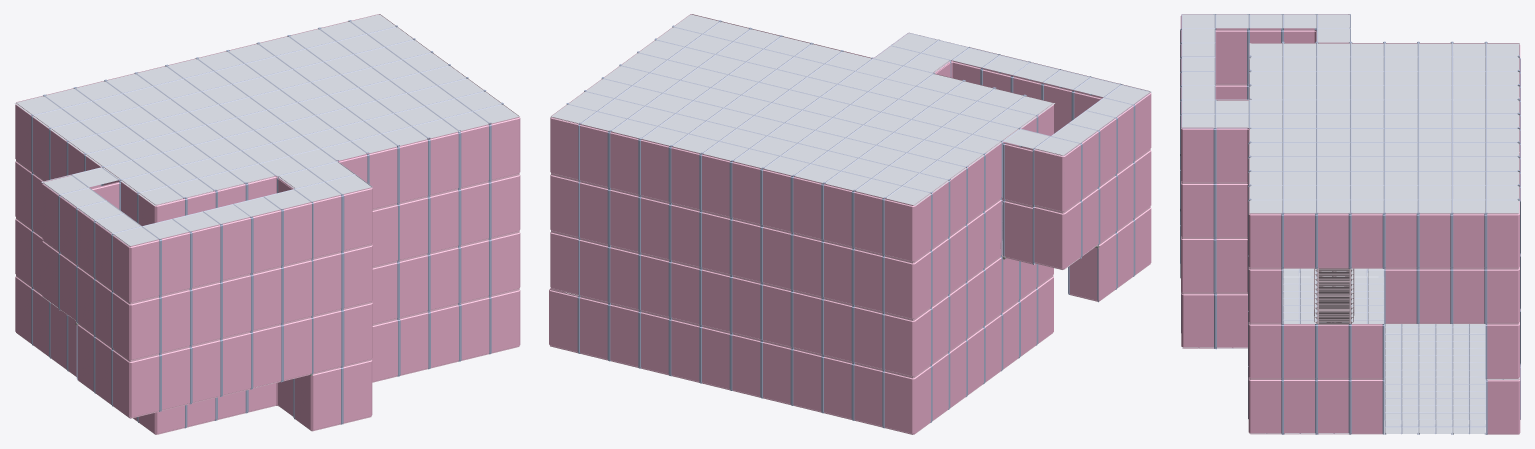
Rendered from Room_2_Model.fbx.
3 renders of one model, left to right at view 1: azimuth 30°, elevation 25°; view 2: azimuth 150°, elevation 25°; view 3: azimuth 270°, elevation 25°, orthographic. The views are drawn at different scales.
Parts seen in each view (by area): view 1: polySurface448; view 2: polySurface448; view 3: polySurface448.
Boxes of the visible parts, x1,y1,x2,y2 form: polySurface448: (14, 14, 520, 434); polySurface448: (549, 14, 1151, 434); polySurface448: (1180, 14, 1520, 434).
Bounding box in the file's own units: 2808 × 1443 × 2015.
